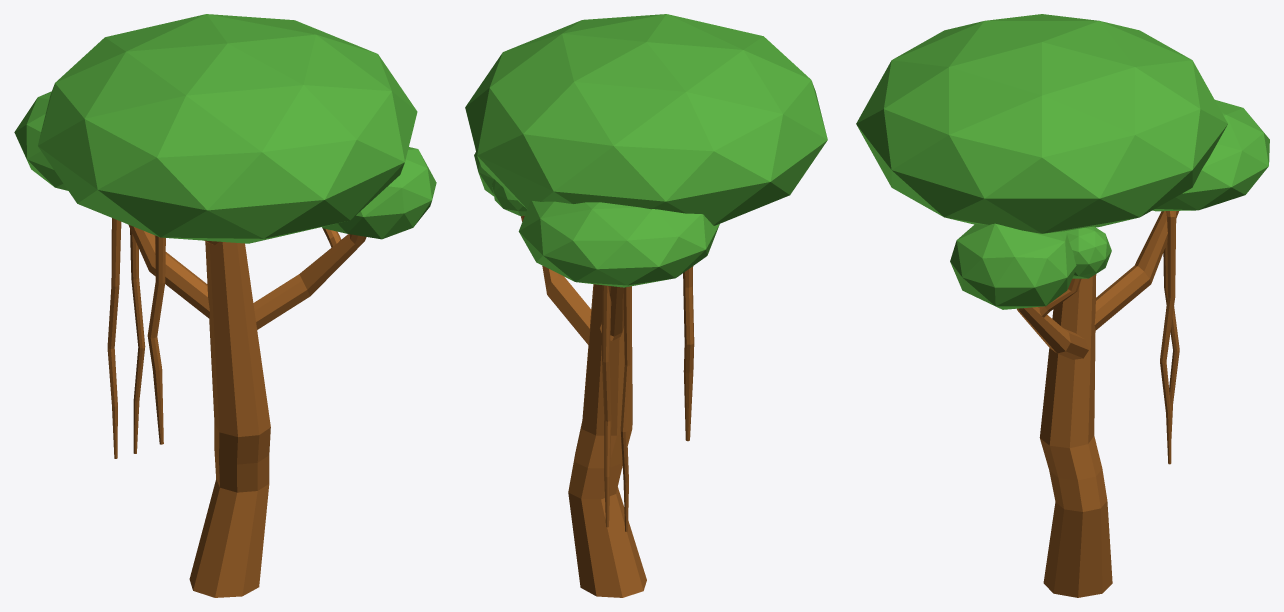
File: ENVI_LV2-3_pohon_Tinggi_002.fbx
The picture shows the model from 3 angles, left to right: view 1: azimuth 30°, elevation 25°; view 2: azimuth 150°, elevation 25°; view 3: azimuth 270°, elevation 25°; orthographic projection. The views are drawn at different scales.
Parts seen in each view (by area): view 1: pohon Tinggi.002; view 2: pohon Tinggi.002; view 3: pohon Tinggi.002.
Part boxes in pixels (x1,y1,x2,y2): pohon Tinggi.002: (14, 14, 436, 597); pohon Tinggi.002: (465, 14, 827, 597); pohon Tinggi.002: (856, 14, 1269, 597).
Size of the model in its own units: 1132 by 1752 by 1231.
